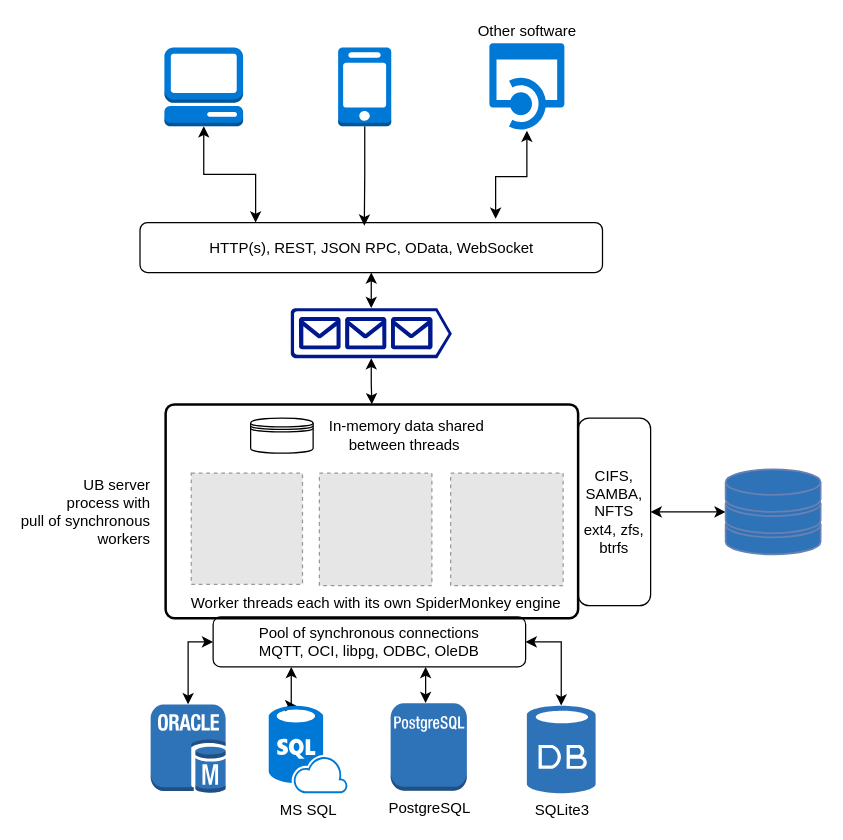
The diagram is 843 pixels wide and 840 high, and some of its shapes have lost their labels. Grey dashed boxes stand in for pictures. Here are the shapes that lost their labels. From the top down, the centre of each, then its label:
[203,86]: Browser
[364,86]: Mobile
[370,333]: Asynchronous non-blocking request/response queue
[772,511]: File storage
[187,748]: Oracle
